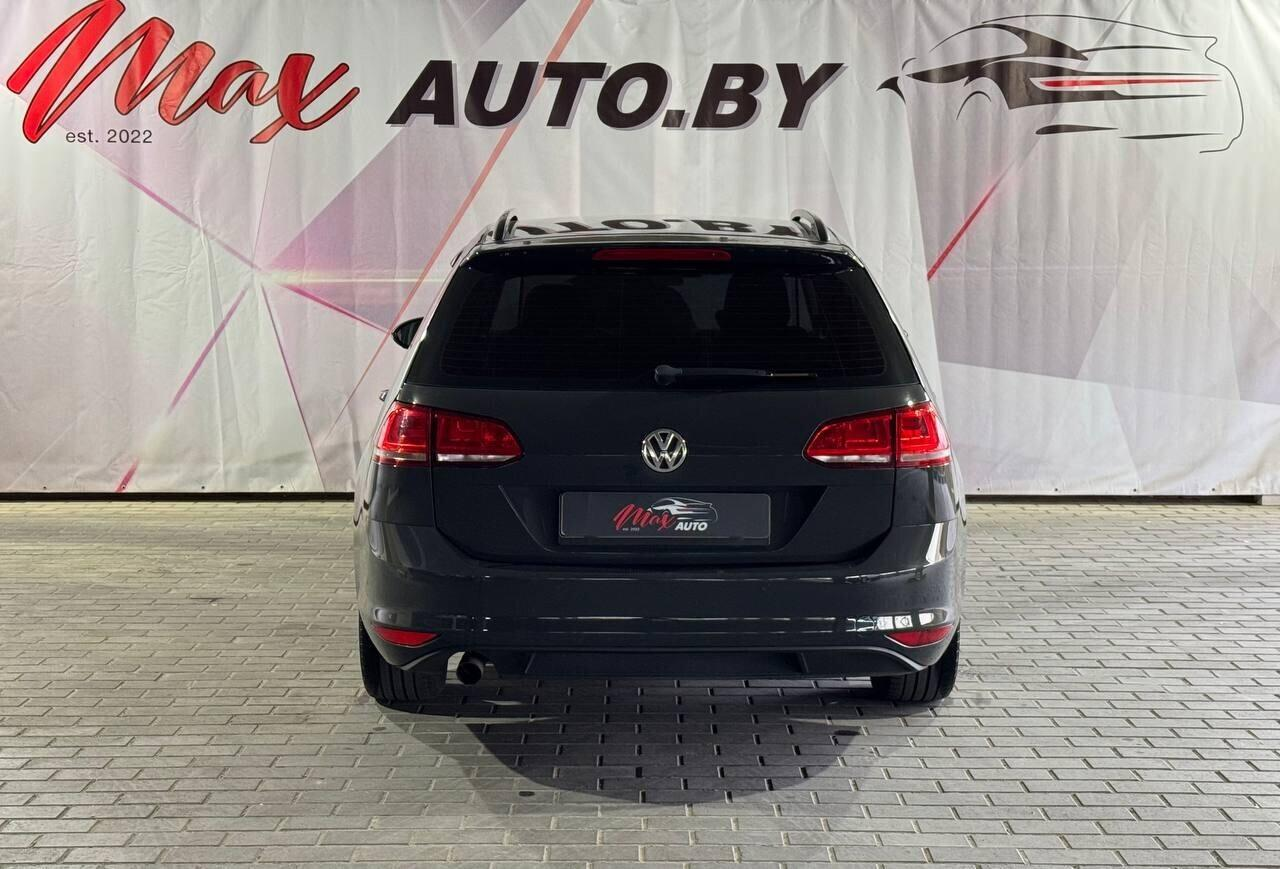Golf_2012-2017: (352, 209, 972, 728)
